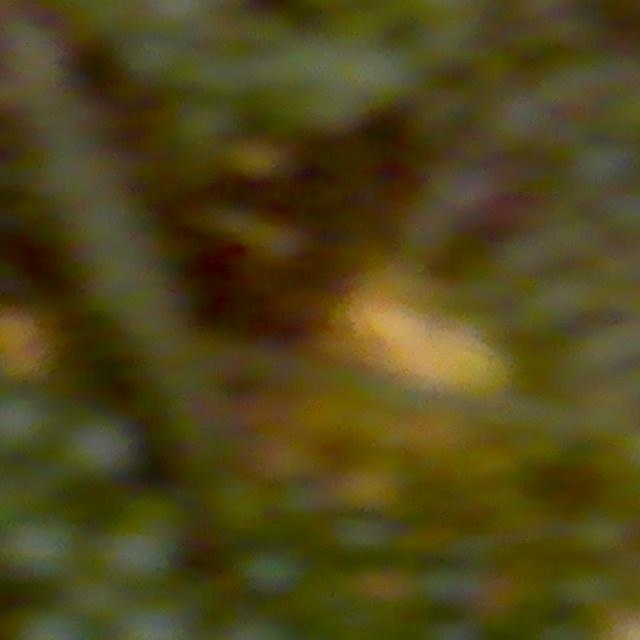SeaGrape: (93, 515, 177, 591), (6, 512, 80, 588), (57, 418, 135, 482), (0, 388, 49, 462)
